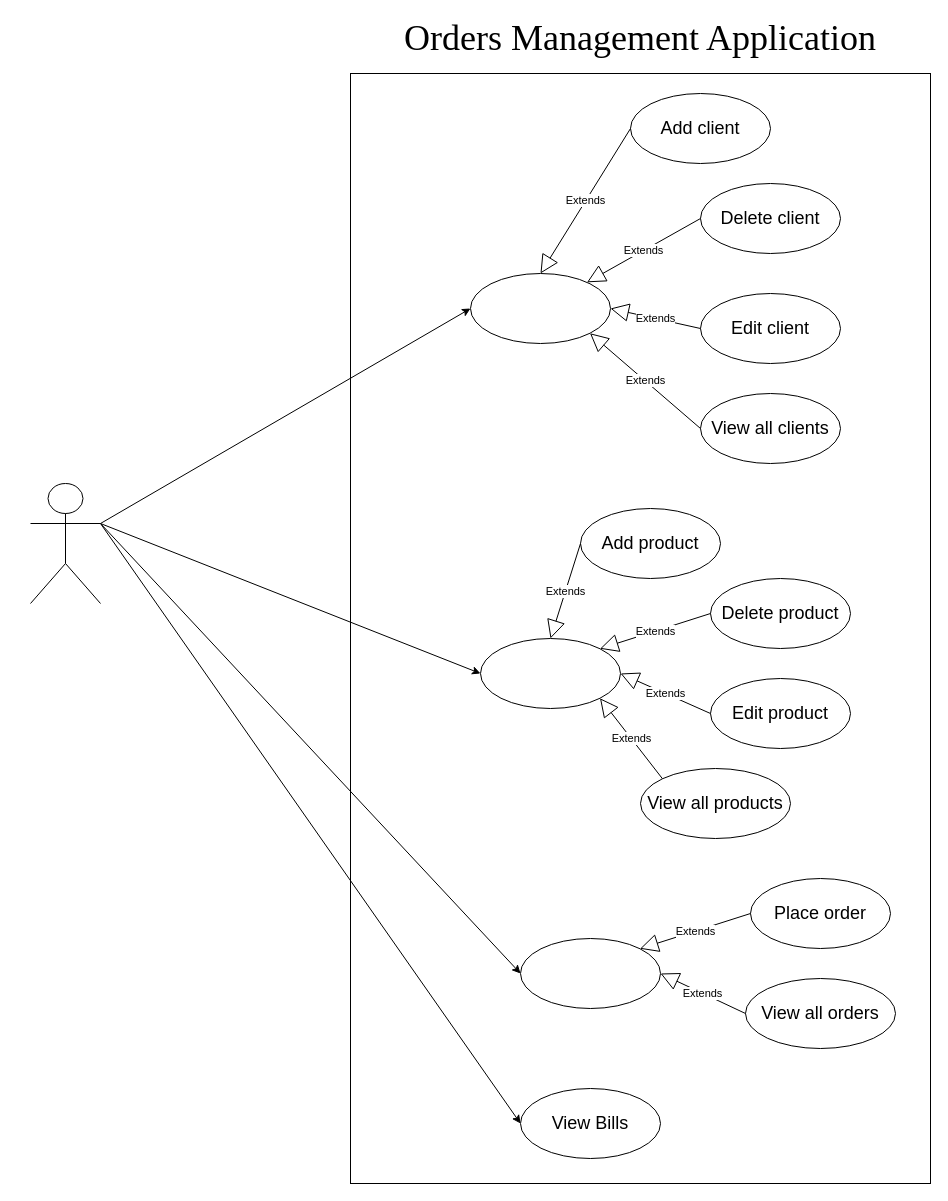
The diagram is 948 pixels wide and 1201 high, and some of its shapes have lost their labels. Each missing label, with the box of its shape:
Employee: (30, 482, 100, 604)
Open Client Window: (470, 272, 610, 344)
Open Order Window: (520, 938, 660, 1008)
Open Product Window: (480, 638, 620, 708)
